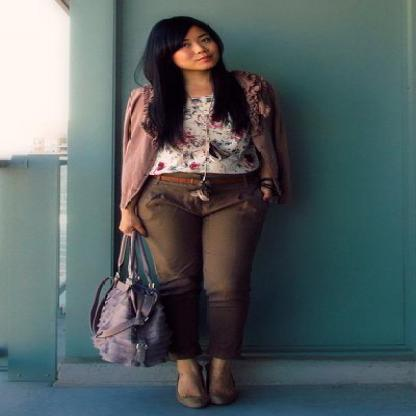bag: (90, 241, 176, 367)
pants: (138, 181, 274, 359)
shirt: (149, 68, 276, 174)
shoe: (176, 381, 223, 409)
